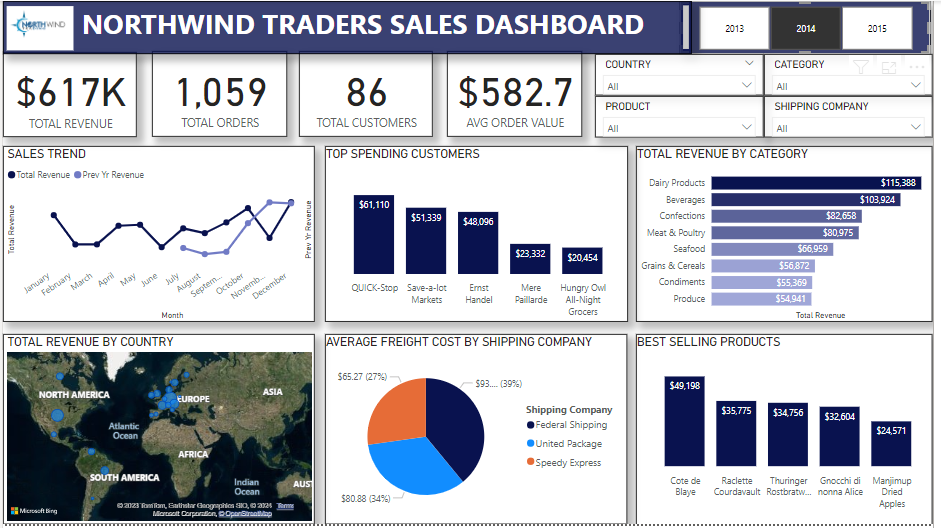

This screenshot's page, from the dashboard's own definition file:
{"tool":"powerbi","page":{"name":"Sales","canvas":[1280,720],"ordinal":0},"visuals":[{"type":"slicer","fields":{"Values":["Calendar.Year"]},"box":[931.3,0,344.6,73.3],"z":0},{"type":"card","fields":{"Values":["order_details.Total Revenue"]},"box":[0,70.6,185,114],"z":1000},{"type":"card","fields":{"Values":["order_details.Total Orders"]},"box":[204.8,69.2,185.4,114.9],"z":2000},{"type":"card","fields":{"Values":["customers.Total Customers"]},"box":[406.8,69.2,185.4,114.9],"z":3000},{"type":"card","fields":{"Values":["order_details.Avg Order Value"]},"box":[611.6,69.2,185.4,114.9],"z":4000},{"type":"lineChart","title":"SALES TREND","fields":{"Category":["Calendar.Month"],"Y":["order_details.Total Revenue"],"Y2":["Calendar.Prev Yr Revenue"]},"box":[0,199.6,429.4,242.2],"z":5000},{"type":"barChart","title":"TOTAL REVENUE BY CATEGORY","fields":{"Category":["categories.categoryName"],"Y":["order_details.Total Revenue"]},"box":[871.8,199.3,408.2,242.2],"z":6000},{"type":"pieChart","title":"AVERAGE FREIGHT COST BY SHIPPING COMPANY","fields":{"Category":["shippers.companyName"],"Y":["Avg(orders.freight)"]},"box":[443.2,458.3,415.7,261.5],"z":7000},{"type":"textbox","box":[0,0,947.9,73.3],"z":8000},{"type":"image","box":[0,0,102.5,73.9],"z":9000},{"type":"columnChart","title":"TOP SPENDING CUSTOMERS","fields":{"Category":["customers.companyName"],"Y":["order_details.Total Revenue"]},"box":[442.8,199.3,416.5,242.2],"z":10000},{"type":"clusteredColumnChart","title":"BEST SELLING PRODUCTS","fields":{"Category":["products.productName"],"Y":["order_details.Total Revenue"]},"box":[871.8,458,408.2,262.9],"z":11000},{"type":"slicer","fields":{"Values":["customers.country"]},"box":[815,73.3,232.5,56.7],"z":12000},{"type":"slicer","fields":{"Values":["products.productName"]},"box":[815,130.1,232.5,56.7],"z":13000},{"type":"slicer","fields":{"Values":["categories.categoryName"]},"box":[1047.5,73.3,232.5,56.7],"z":14000},{"type":"map","title":"TOTAL REVENUE BY COUNTRY","fields":{"Category":["customers.country"],"Size":["order_details.Total Revenue"]},"box":[0,458.3,429.4,261.5],"z":15000},{"type":"slicer","fields":{"Values":["shippers.companyName"]},"box":[1047.5,130.1,232.5,56.7],"z":16000}]}

Visuals, with their boxes in screenshot pixels (x1, y1, x2, y2), scaled from the page's 1280x720 canvas onto the 941x528 screenshot:
slicer - Calendar.Year: bbox=[685, 0, 938, 54]
card - order_details.Total Revenue: bbox=[0, 52, 136, 135]
card - order_details.Total Orders: bbox=[151, 51, 287, 135]
card - customers.Total Customers: bbox=[299, 51, 435, 135]
card - order_details.Avg Order Value: bbox=[450, 51, 586, 135]
"SALES TREND" lineChart: bbox=[0, 146, 316, 324]
"TOTAL REVENUE BY CATEGORY" barChart: bbox=[641, 146, 940, 324]
"AVERAGE FREIGHT COST BY SHIPPING COMPANY" pieChart: bbox=[326, 336, 631, 527]
textbox: bbox=[0, 0, 697, 54]
image: bbox=[0, 0, 75, 54]
"TOP SPENDING CUSTOMERS" columnChart: bbox=[326, 146, 632, 324]
"BEST SELLING PRODUCTS" clusteredColumnChart: bbox=[641, 336, 940, 527]
slicer - customers.country: bbox=[599, 54, 770, 95]
slicer - products.productName: bbox=[599, 95, 770, 137]
slicer - categories.categoryName: bbox=[770, 54, 940, 95]
"TOTAL REVENUE BY COUNTRY" map: bbox=[0, 336, 316, 527]
slicer - shippers.companyName: bbox=[770, 95, 940, 137]
